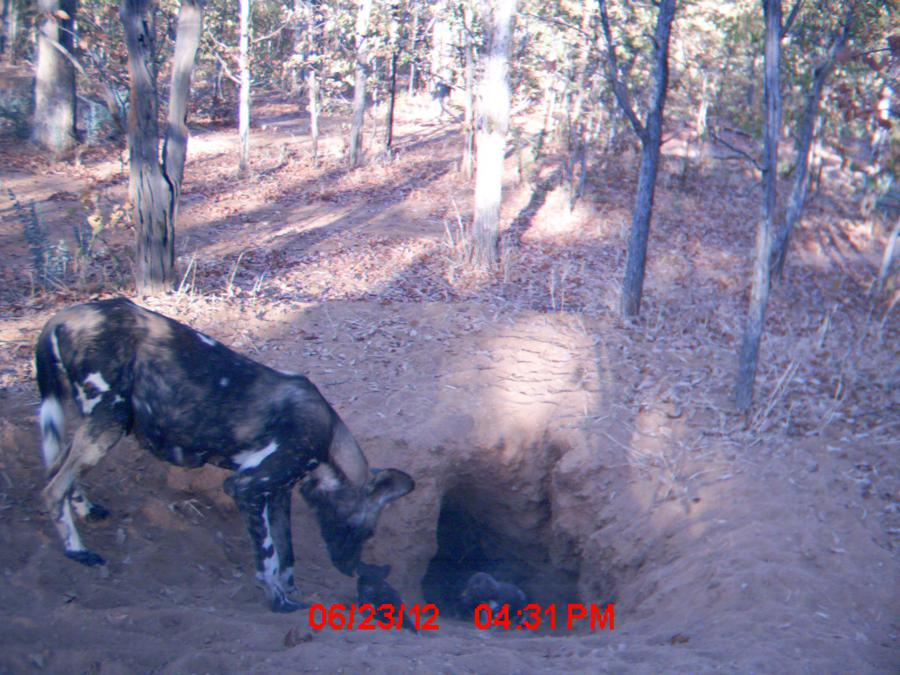wilddog: (53, 312, 415, 557)
